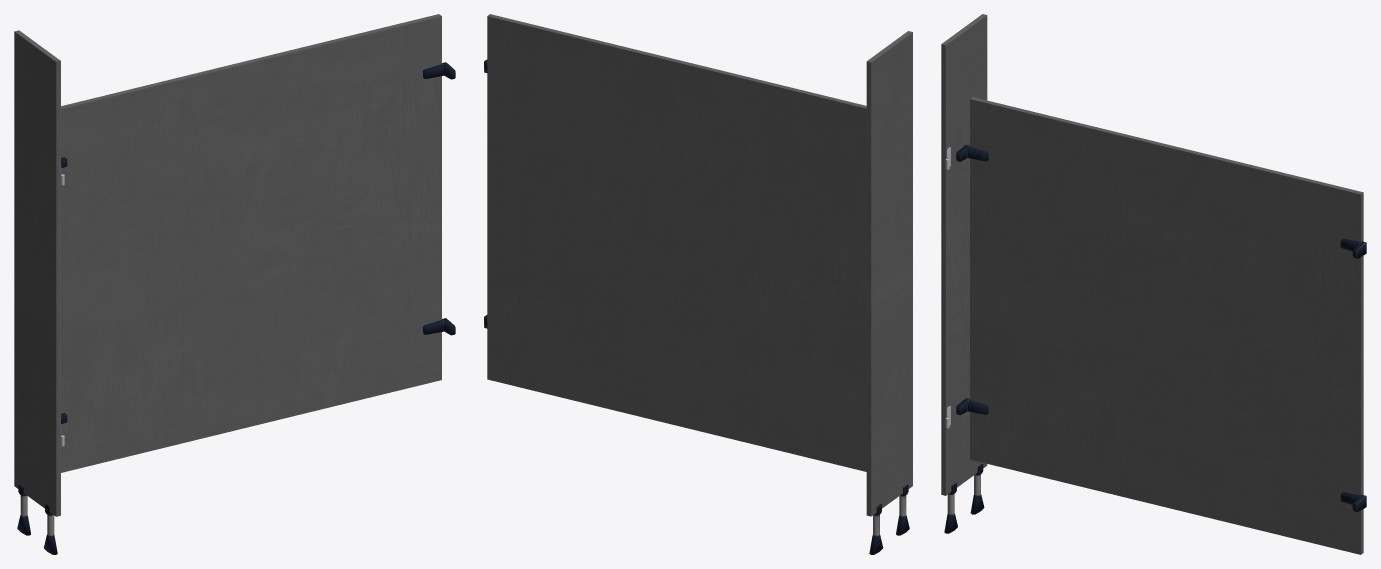
File: SM_Bathroom_Stalls_01.glb
3 renders of one model, left to right at view 1: azimuth 30°, elevation 25°; view 2: azimuth 150°, elevation 25°; view 3: azimuth 330°, elevation 25°, orthographic.
Visible parts, largest first — view 1: SM_Bathroom_Stalls_01; view 2: SM_Bathroom_Stalls_01; view 3: SM_Bathroom_Stalls_01.
Boxes of the visible parts, <box> form: SM_Bathroom_Stalls_01: <box>14,14,455,554</box>; SM_Bathroom_Stalls_01: <box>484,14,912,554</box>; SM_Bathroom_Stalls_01: <box>941,14,1366,554</box>.
Bounding box in the file's own units: 2.01 × 2.31 × 0.361.
Materials: 1 (1 with a texture image).
